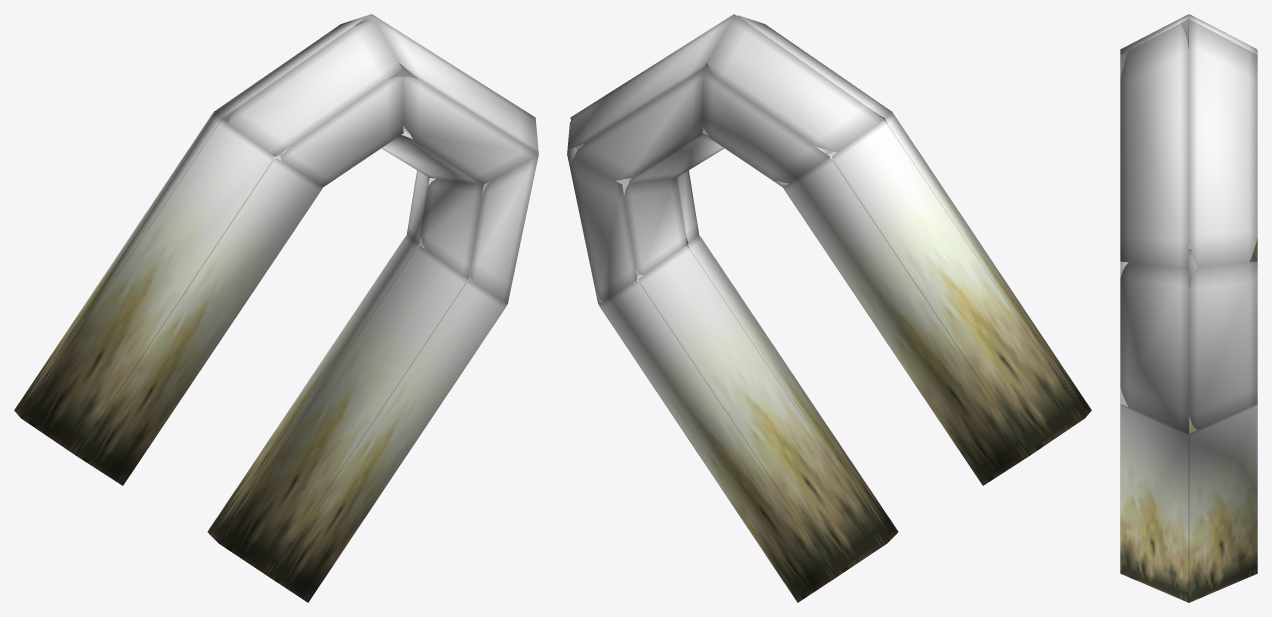
The picture shows the model from 3 angles, left to right: view 1: azimuth 30°, elevation 25°; view 2: azimuth 150°, elevation 25°; view 3: azimuth 270°, elevation 25°; orthographic projection. The views are drawn at different scales.
Visible parts, largest first — view 1: T1L8M004_7; view 2: T1L8M004_7; view 3: T1L8M004_7.
Part boxes in pixels (x1,y1,x2,y2): T1L8M004_7: (14,14,538,602); T1L8M004_7: (567,14,1091,602); T1L8M004_7: (1120,14,1257,602).
Bounding box in the file's own units: 0.5645 × 0.5869 × 0.1172.
